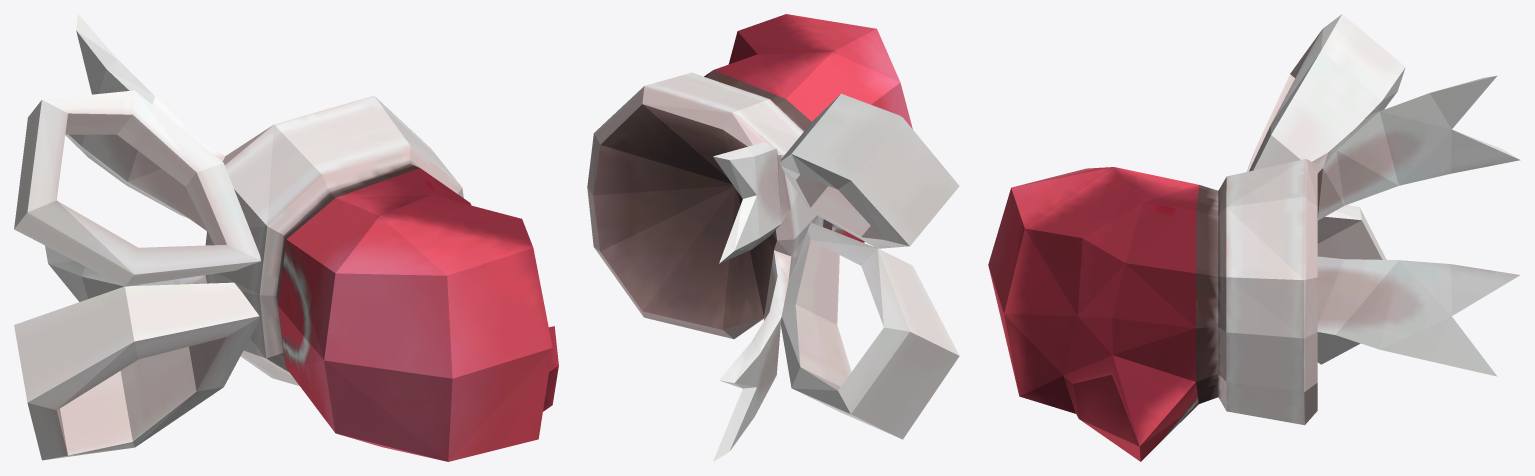
The model's file is Panda_bdWeapon_right.obj.
The picture shows the model from 3 angles, left to right: view 1: azimuth 30°, elevation 25°; view 2: azimuth 150°, elevation 25°; view 3: azimuth 270°, elevation 25°; orthographic projection. The views are drawn at different scales.
Visible parts, largest first — view 1: Panda_bdWeapon_tri:right; view 2: Panda_bdWeapon_tri:right; view 3: Panda_bdWeapon_tri:right.
Part boxes in pixels (x1,y1,x2,y2): Panda_bdWeapon_tri:right: (14, 14, 558, 461); Panda_bdWeapon_tri:right: (587, 14, 959, 461); Panda_bdWeapon_tri:right: (988, 14, 1520, 461).
Bounding box in the file's own units: 0.2286 × 0.187 × 0.2843.
Materials: 1 (1 with a texture image).
